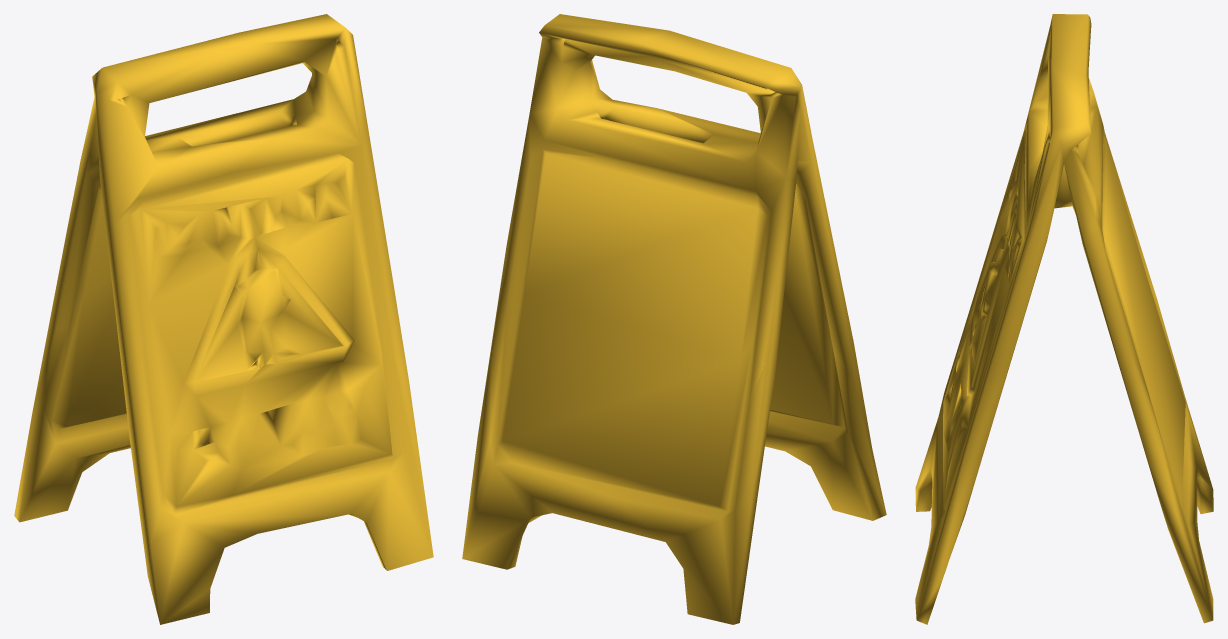
Rendered from SM_prop_wet_sign.fbx.
3 renders of one model, left to right at view 1: azimuth 30°, elevation 25°; view 2: azimuth 150°, elevation 25°; view 3: azimuth 270°, elevation 25°, orthographic.
Visible parts, largest first — view 1: SM_prop_wet_sign; view 2: SM_prop_wet_sign; view 3: SM_prop_wet_sign.
Part boxes in pixels (x1,y1,x2,y2): SM_prop_wet_sign: [14, 14, 433, 624]; SM_prop_wet_sign: [462, 14, 886, 624]; SM_prop_wet_sign: [915, 14, 1213, 624].
Size of the model in its own units: 34.8 by 60 by 32.69.
Materials: 1 (1 with a texture image).
